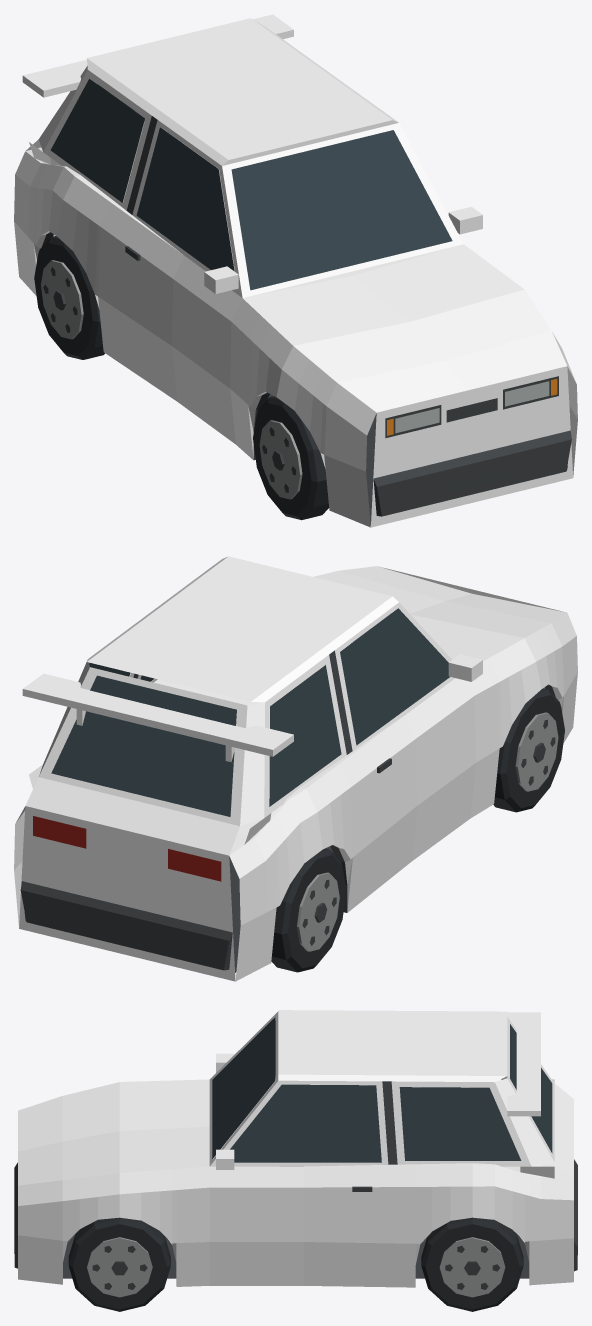
The model's file is kanaya_nagare_corrida.glb.
3 renders of one model, top to bottom at view 1: azimuth 30°, elevation 25°; view 2: azimuth 150°, elevation 25°; view 3: azimuth 270°, elevation 25°, orthographic. The views are drawn at different scales.
Parts seen in each view (by area): view 1: kanaya_nagare_corrida; view 2: kanaya_nagare_corrida; view 3: kanaya_nagare_corrida.
Part boxes in pixels (left/top/right/bottom): kanaya_nagare_corrida: left=14, top=14, right=577, bottom=527; kanaya_nagare_corrida: left=14, top=556, right=577, bottom=981; kanaya_nagare_corrida: left=14, top=1010, right=577, bottom=1311.
Size of the model in its own units: 1.62 by 1.58 by 3.66.
Materials: 8 (1 with a texture image).
